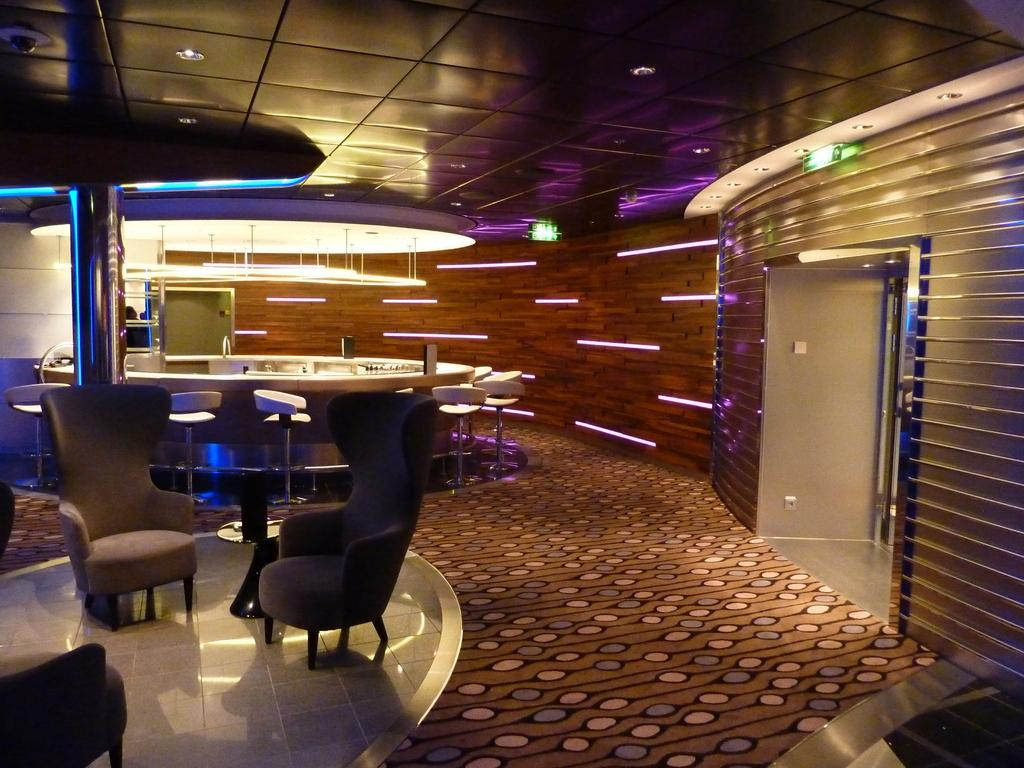Chair: (260, 390, 447, 671), (36, 384, 202, 620)
